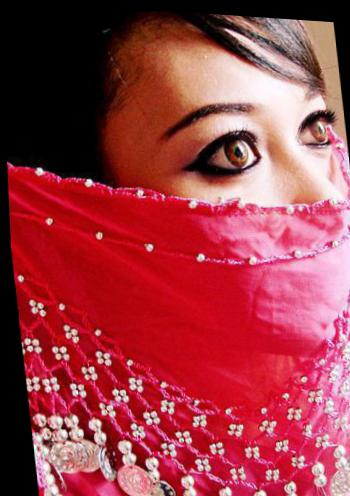WRONG: (102, 64, 350, 363)
